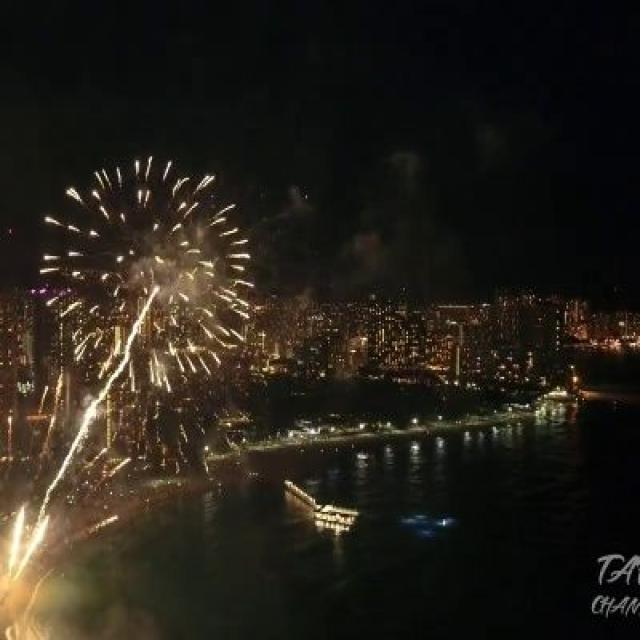Smoke: (364, 114, 532, 200), (341, 214, 468, 293)
